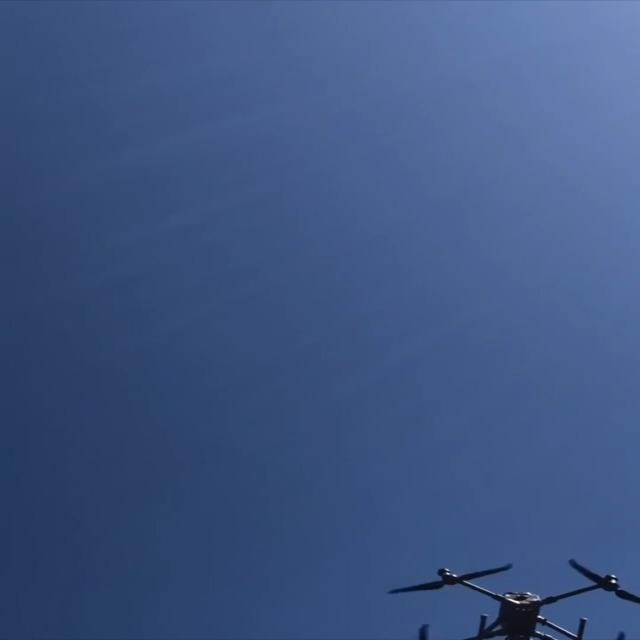drone: (386, 557, 638, 639)
